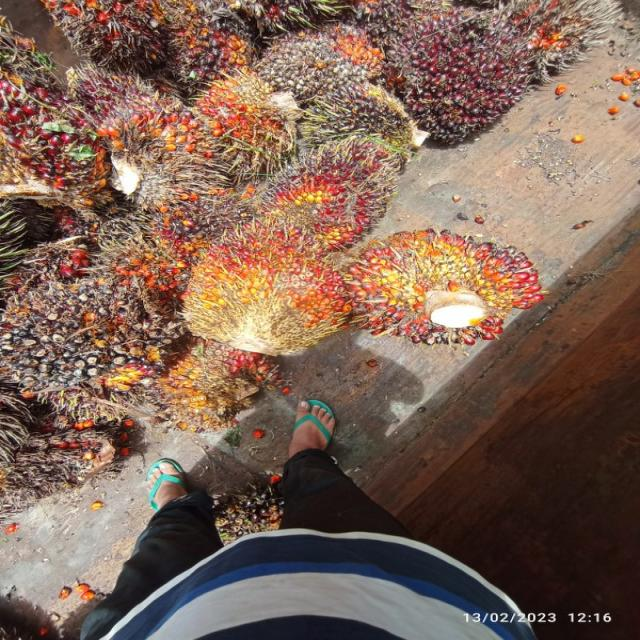fraksi 00: (0, 272, 179, 413), (308, 80, 422, 152)
fraksi 1: (246, 135, 426, 246), (394, 5, 532, 142), (254, 18, 387, 104), (163, 2, 254, 92)
fraksi 3: (342, 201, 545, 363), (181, 212, 363, 364), (194, 77, 293, 159)
fraksi 4: (492, 0, 604, 71), (111, 248, 191, 307)
